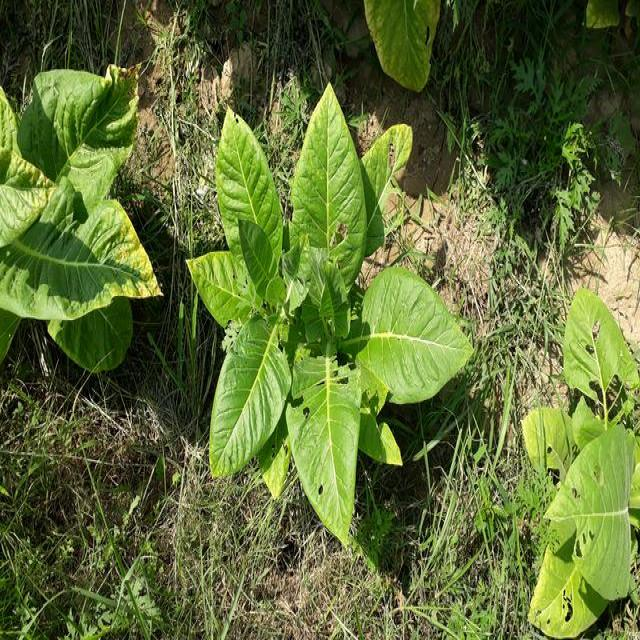crop: (197, 104, 463, 536), (0, 63, 157, 378), (526, 295, 640, 619), (351, 0, 455, 95)
